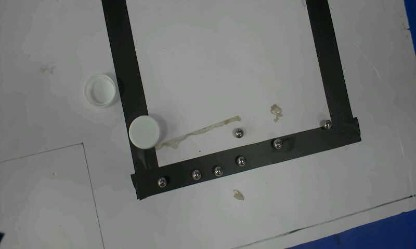ironball: (272, 138, 282, 149), (322, 119, 332, 129), (191, 169, 200, 180), (213, 165, 222, 176), (157, 176, 166, 187), (236, 156, 245, 166), (234, 127, 242, 138)
